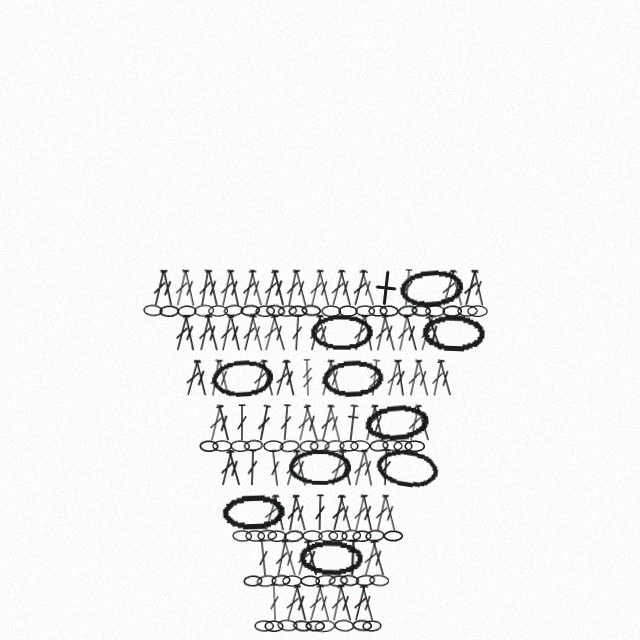chain: (373, 445, 442, 491), (363, 402, 430, 444), (398, 267, 464, 309), (210, 358, 274, 398), (321, 358, 385, 398), (221, 493, 285, 532), (421, 313, 485, 352), (298, 539, 363, 577), (310, 314, 374, 351), (288, 449, 351, 486), (314, 619, 336, 633), (292, 619, 313, 633), (256, 574, 277, 588), (328, 574, 349, 588), (283, 529, 304, 543), (279, 439, 300, 453), (324, 439, 345, 453), (277, 304, 298, 318), (397, 304, 418, 318), (277, 619, 298, 632), (315, 574, 336, 587), (339, 574, 360, 587), (355, 574, 376, 587), (243, 439, 264, 452), (309, 439, 330, 452), (382, 439, 403, 452), (223, 304, 244, 317), (265, 304, 286, 317), (334, 619, 354, 632), (352, 619, 372, 632), (271, 574, 291, 587), (369, 574, 389, 587), (257, 529, 277, 542), (341, 529, 361, 542), (365, 529, 385, 542), (369, 439, 389, 452), (143, 304, 163, 317), (194, 304, 214, 317), (240, 304, 260, 317), (301, 304, 321, 317), (411, 304, 431, 317), (302, 530, 323, 542), (263, 440, 284, 452), (404, 440, 425, 452), (457, 305, 478, 317), (467, 305, 488, 317), (254, 620, 274, 632), (264, 620, 284, 632), (305, 620, 325, 632), (362, 620, 382, 632), (243, 575, 263, 587), (282, 575, 302, 587), (300, 575, 320, 587), (232, 530, 252, 542), (245, 530, 265, 542), (267, 530, 287, 542), (318, 530, 338, 542), (328, 530, 348, 542), (352, 530, 372, 542), (383, 530, 403, 542), (199, 440, 219, 452), (212, 440, 232, 452), (230, 440, 250, 452), (299, 440, 319, 452), (339, 440, 359, 452), (350, 440, 370, 452), (393, 440, 413, 452), (159, 305, 179, 317), (177, 305, 197, 317), (208, 305, 228, 317), (255, 305, 275, 317), (288, 305, 308, 317), (321, 305, 341, 317), (338, 305, 358, 317), (355, 305, 375, 317), (368, 305, 388, 317), (379, 305, 399, 317), (425, 305, 445, 317), (442, 305, 462, 317)
double: (423, 314, 446, 352), (279, 539, 301, 577), (293, 539, 315, 577), (260, 494, 282, 532), (327, 449, 349, 487), (301, 404, 323, 442), (412, 404, 434, 442), (271, 359, 293, 397), (268, 314, 290, 352), (416, 314, 438, 352), (357, 269, 379, 307), (282, 584, 303, 622), (305, 584, 326, 622), (335, 584, 356, 622), (357, 584, 378, 622), (360, 539, 381, 577), (368, 539, 389, 577), (290, 494, 311, 532), (335, 494, 356, 532), (224, 449, 245, 487), (282, 449, 303, 487), (182, 359, 203, 397), (435, 359, 456, 397), (202, 314, 223, 352), (260, 314, 281, 352), (379, 314, 400, 352), (401, 314, 422, 352), (246, 269, 267, 307), (260, 269, 281, 307), (327, 269, 348, 307), (335, 269, 356, 307), (349, 269, 370, 307), (438, 269, 459, 307), (460, 269, 481, 307), (291, 584, 311, 622), (314, 584, 334, 622), (350, 584, 370, 622), (302, 539, 322, 577), (269, 494, 289, 532), (328, 494, 348, 532), (350, 494, 370, 532), (380, 494, 400, 532), (217, 449, 237, 487), (291, 449, 311, 487), (336, 449, 356, 487), (350, 449, 370, 487), (206, 404, 226, 442), (214, 404, 234, 442), (294, 404, 314, 442), (317, 404, 337, 442), (325, 404, 345, 442), (361, 404, 381, 442), (191, 359, 211, 397), (214, 359, 234, 397), (250, 359, 270, 397), (258, 359, 278, 397), (317, 359, 337, 397), (325, 359, 345, 397), (383, 359, 403, 397), (413, 359, 433, 397), (172, 314, 192, 352), (195, 314, 215, 352), (225, 314, 245, 352), (239, 314, 259, 352), (247, 314, 267, 352), (306, 314, 326, 352), (350, 314, 370, 352), (150, 269, 170, 307), (203, 269, 223, 307), (239, 269, 259, 307), (269, 269, 289, 307), (291, 269, 311, 307), (306, 269, 326, 307), (314, 269, 334, 307), (447, 269, 467, 307), (328, 584, 347, 622), (272, 539, 291, 577), (358, 494, 377, 532), (372, 494, 391, 532), (369, 404, 388, 442), (405, 404, 424, 442), (280, 359, 299, 397), (405, 359, 424, 397), (428, 359, 447, 397), (180, 314, 199, 352), (217, 314, 236, 352), (314, 314, 333, 352), (372, 314, 391, 352), (394, 314, 413, 352), (158, 269, 177, 307), (172, 269, 191, 307), (180, 269, 199, 307), (217, 269, 236, 307), (225, 269, 244, 307), (283, 269, 302, 307), (469, 269, 488, 307), (284, 494, 302, 532), (359, 449, 377, 487), (255, 404, 273, 442), (359, 314, 377, 352), (196, 269, 214, 307), (207, 359, 224, 397), (392, 359, 409, 397), (267, 449, 283, 487), (256, 539, 271, 577), (400, 269, 415, 306), (279, 404, 293, 441), (290, 314, 304, 351), (268, 584, 281, 621), (246, 449, 259, 486), (379, 449, 392, 486), (314, 494, 326, 531), (236, 404, 248, 441)
half_double: (344, 404, 361, 442), (345, 539, 360, 576)
single: (366, 268, 406, 308)
treble: (367, 359, 382, 397), (301, 359, 314, 396)
